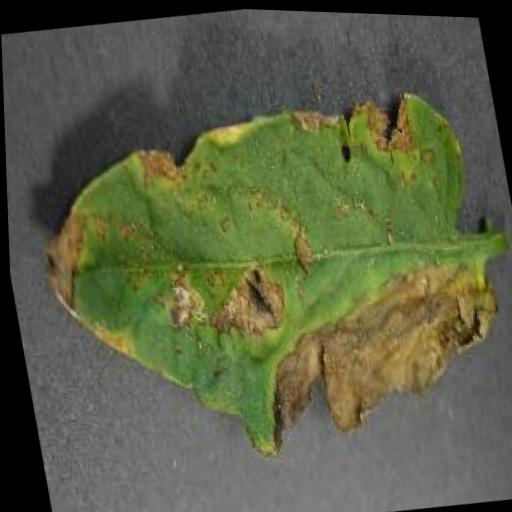Bacterial Spot: (12, 60, 512, 491)
